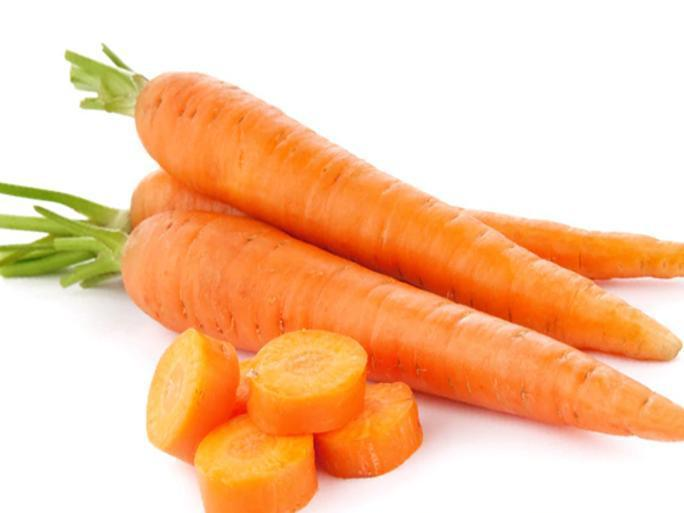carrot: (133, 66, 684, 438), (105, 202, 684, 427)
